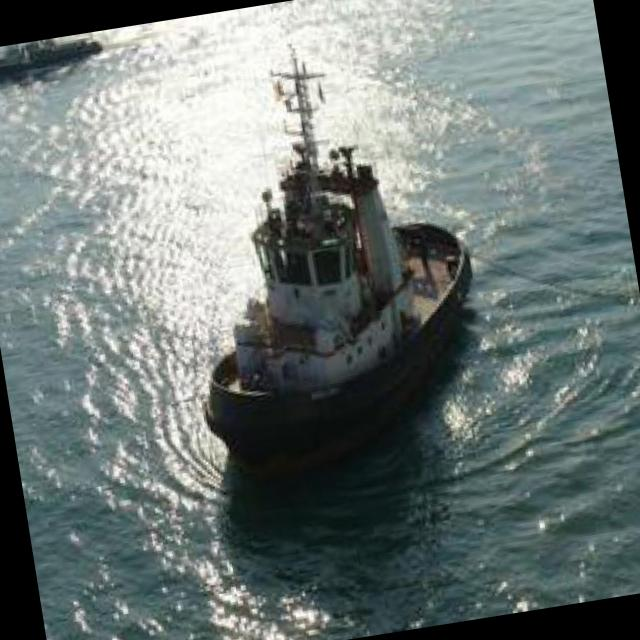boat: (109, 154, 546, 484)
